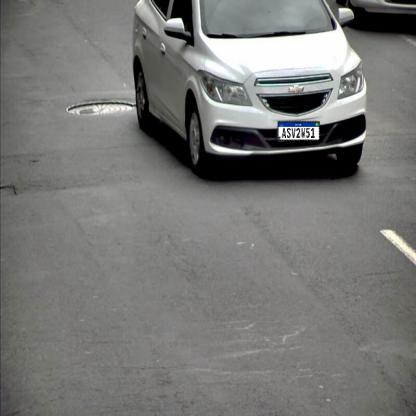PlacaM: (277, 121, 320, 141)
